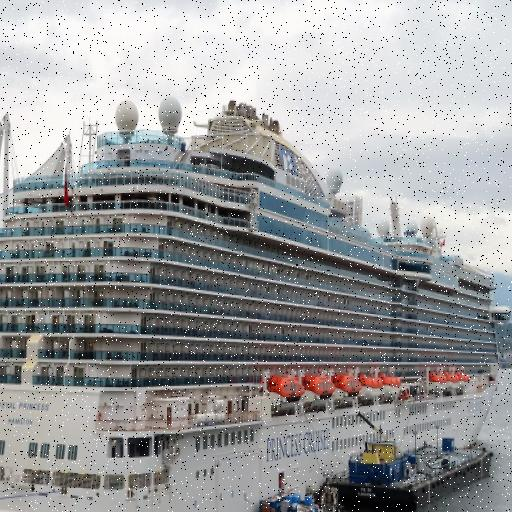cruises: (1, 95, 508, 512)
